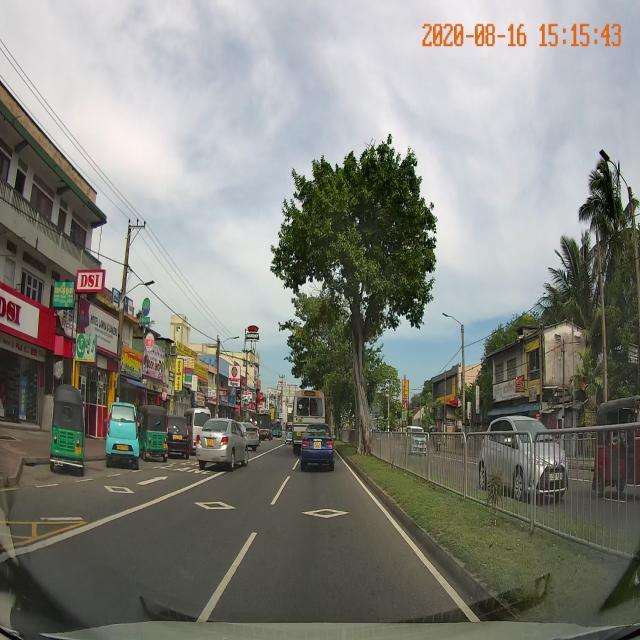diamond: (262, 506, 390, 522)
